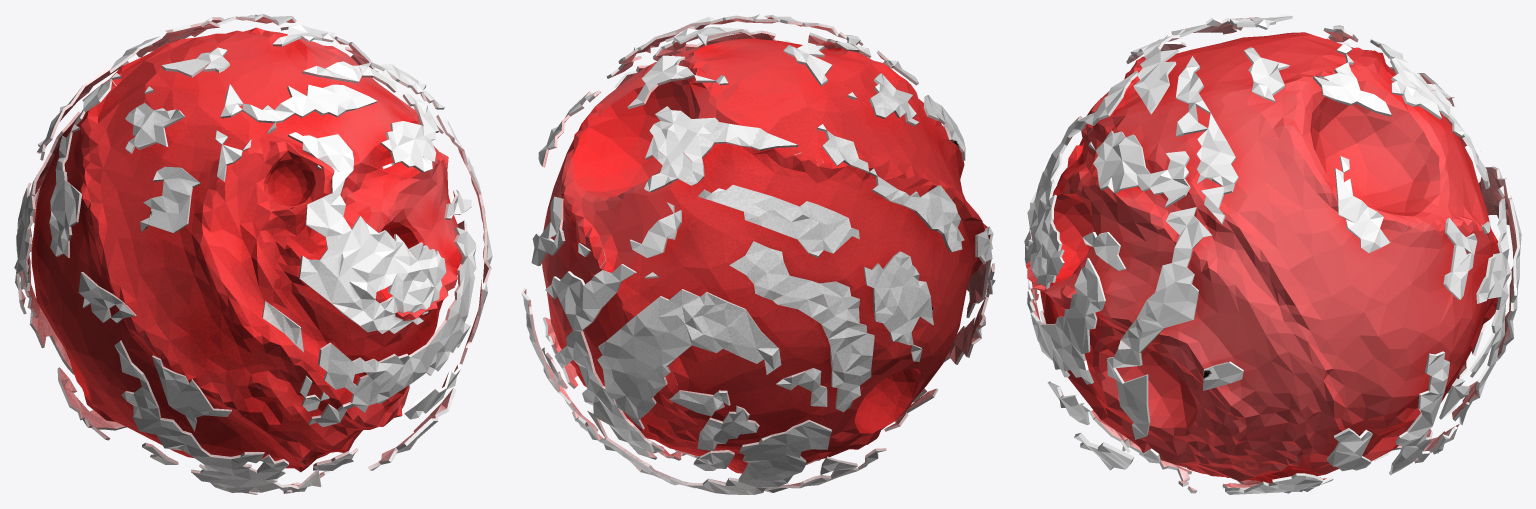
File: cloud烘焙.fbx
3 views of the same model, side by side, from view 1: azimuth 30°, elevation 25°; view 2: azimuth 150°, elevation 25°; view 3: azimuth 270°, elevation 25° (orthographic). The views are drawn at different scales.
Parts seen in each view (by area): view 1: cloud; view 2: cloud; view 3: cloud.
Boxes of the visible parts, x1,y1,x2,y2 form: cloud: (14,14,492,494); cloud: (521,14,995,494); cloud: (1024,14,1521,494).
Bounding box in the file's own units: 292 × 298 × 304.
Materials: 1 (1 with a texture image).
